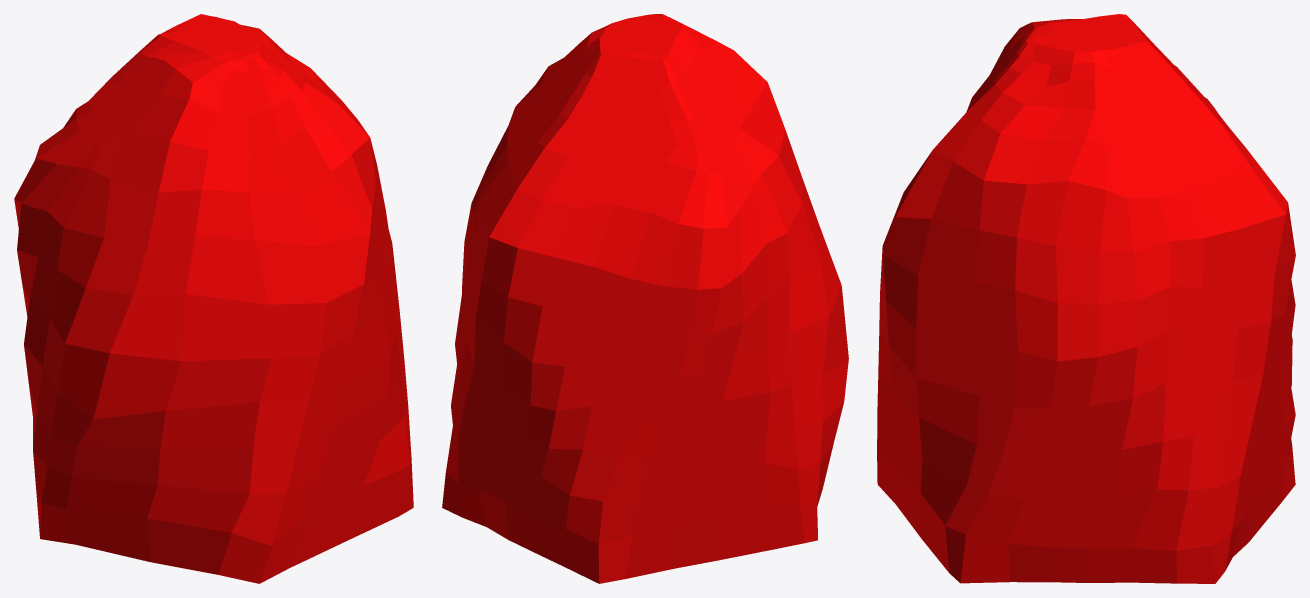
The model's file is Rock_low.fbx.
3 views of the same model, side by side, from view 1: azimuth 30°, elevation 25°; view 2: azimuth 150°, elevation 25°; view 3: azimuth 270°, elevation 25° (orthographic). The views are drawn at different scales.
Parts seen in each view (by area): view 1: Rock_low; view 2: Rock_low; view 3: Rock_low.
Boxes of the visible parts, bbox=[...] form: Rock_low: bbox=[14, 14, 413, 583]; Rock_low: bbox=[442, 14, 848, 583]; Rock_low: bbox=[877, 14, 1295, 583].
Bounding box in the file's own units: 113 × 147 × 116.
